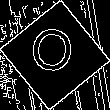O_S: (31, 28, 79, 82)
